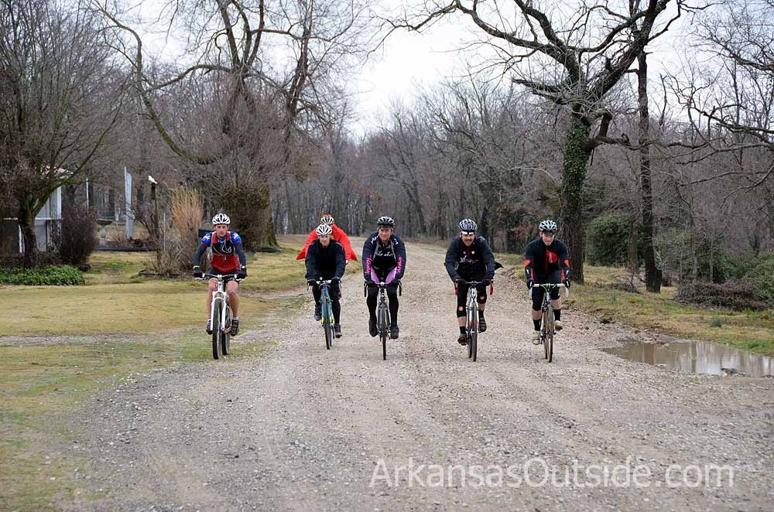non-vehicle: (193, 268, 248, 360), (452, 276, 493, 362), (527, 279, 568, 363), (362, 279, 402, 360), (305, 277, 342, 349)
